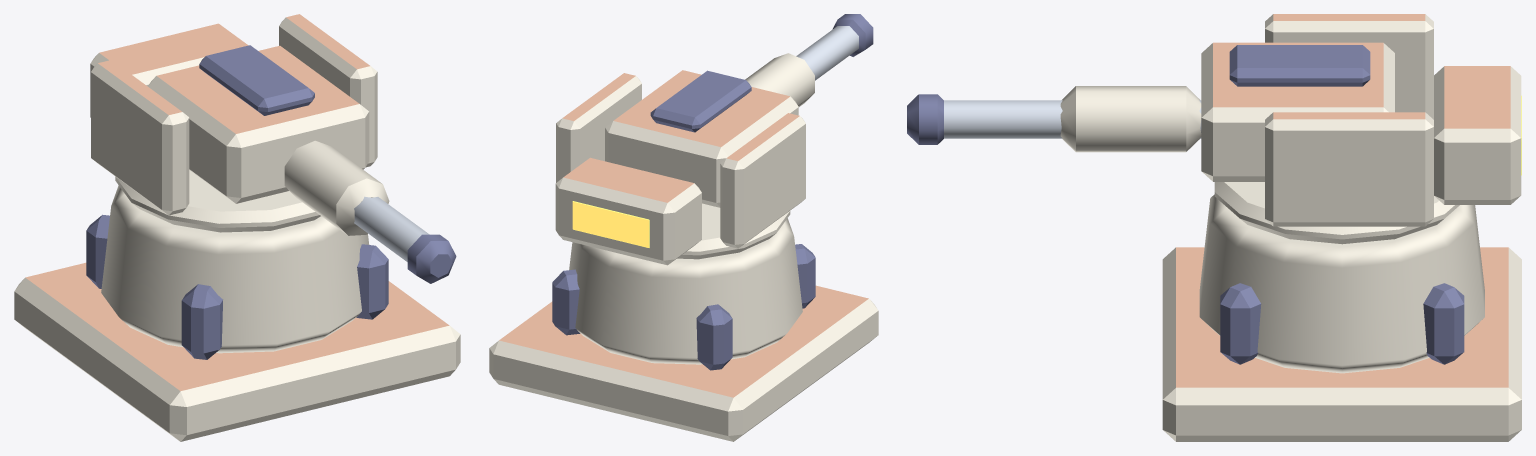
Rendered from R4W_Basic_LOD1.fbx.
The picture shows the model from 3 angles, left to right: view 1: azimuth 30°, elevation 25°; view 2: azimuth 150°, elevation 25°; view 3: azimuth 270°, elevation 25°; orthographic projection. The views are drawn at different scales.
Parts seen in each view (by area): view 1: R4W_Basic_LOD1; view 2: R4W_Basic_LOD1; view 3: R4W_Basic_LOD1.
Boxes of the visible parts, box(x1,y1,x2,y2) form: R4W_Basic_LOD1: box(14, 14, 460, 441); R4W_Basic_LOD1: box(489, 14, 878, 441); R4W_Basic_LOD1: box(907, 14, 1521, 441).
Size of the model in its own units: 0.51 by 0.494 by 0.873.
